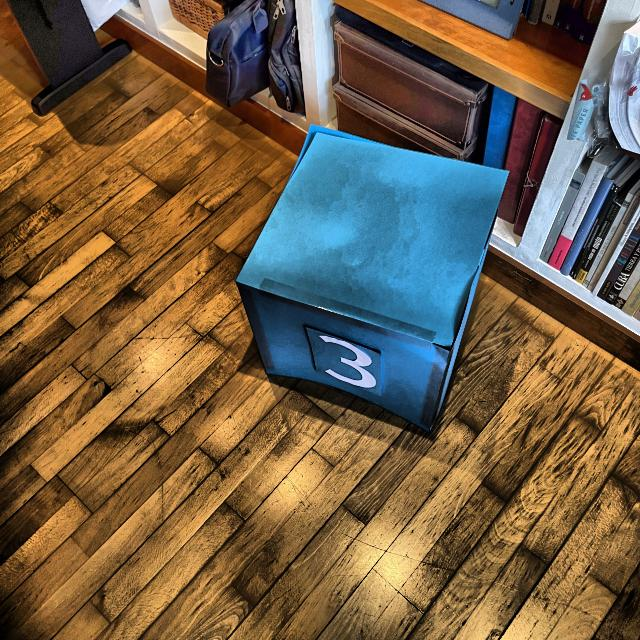blue box: (237, 126, 509, 436)
three: (316, 331, 380, 390)
